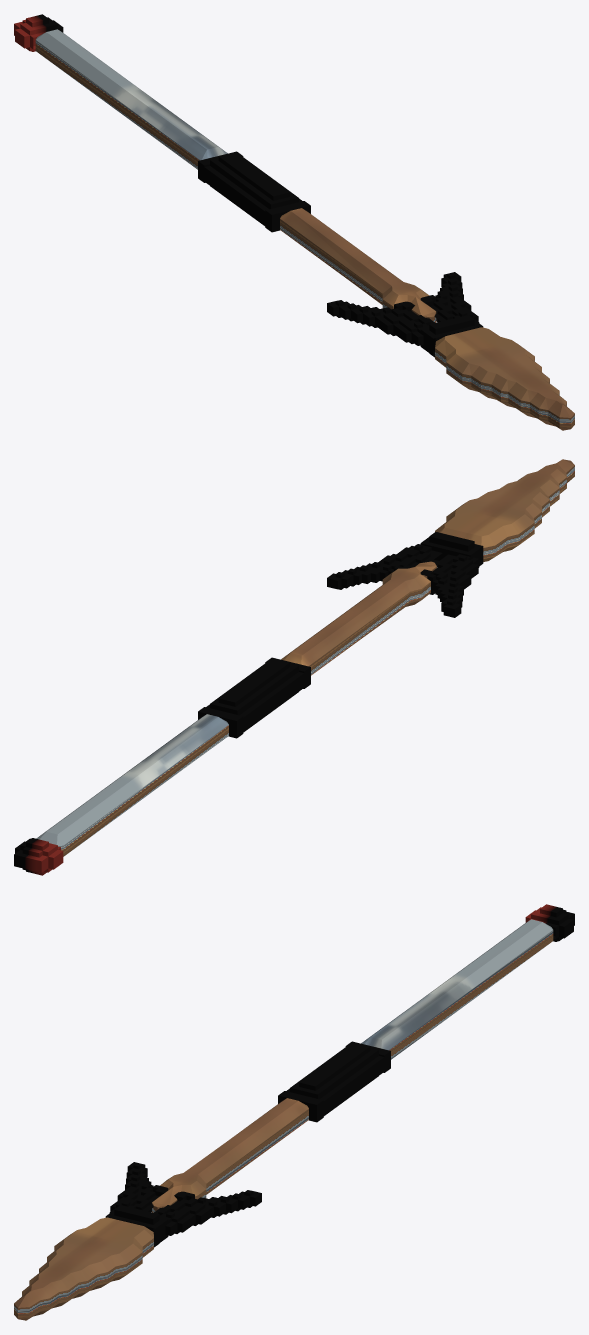
Rendered from red_tassel_spear.obj.
3 renders of one model, top to bottom at view 1: azimuth 30°, elevation 25°; view 2: azimuth 150°, elevation 25°; view 3: azimuth 330°, elevation 25°, orthographic.
Parts seen in each view (by area): view 1: red_tassel_spear; view 2: red_tassel_spear; view 3: red_tassel_spear.
Part boxes in pixels (<box>): red_tassel_spear: <box>14,14,574,430</box>; red_tassel_spear: <box>14,459,574,875</box>; red_tassel_spear: <box>14,904,574,1320</box>.
Size of the model in its own units: 0.2396 by 0.0625 by 1.76.
